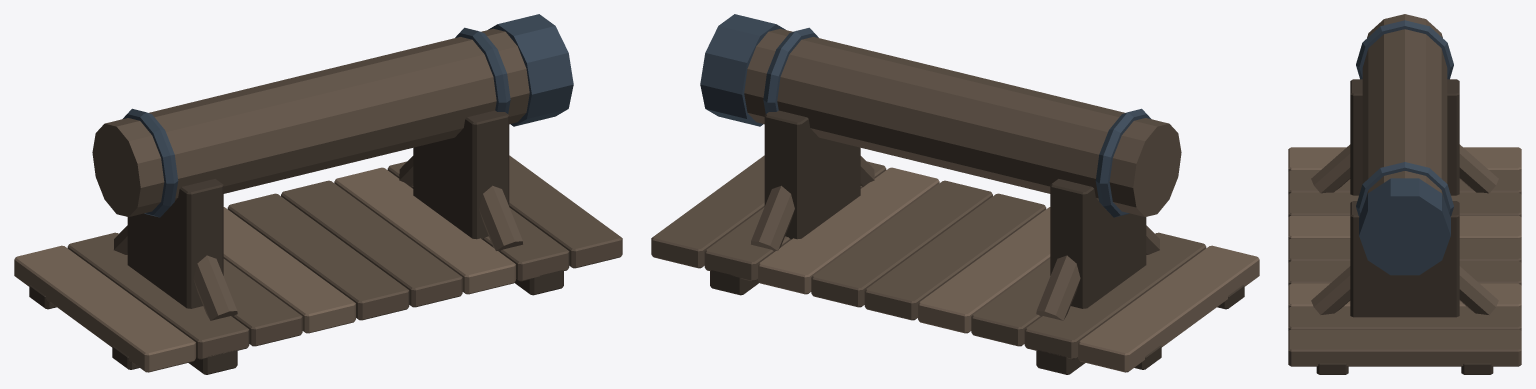
File: supported-ram.glb
The picture shows the model from 3 angles, left to right: view 1: azimuth 30°, elevation 25°; view 2: azimuth 150°, elevation 25°; view 3: azimuth 270°, elevation 25°; orthographic projection. The views are drawn at different scales.
Visible parts, largest first — view 1: supported-ram__body; view 2: supported-ram__body; view 3: supported-ram__body.
Part boxes in pixels (<box>): supported-ram__body: <box>14,14,622,374</box>; supported-ram__body: <box>651,14,1259,374</box>; supported-ram__body: <box>1288,14,1521,374</box>.
Size of the model in its own units: 1.95 by 0.828 by 0.94.
